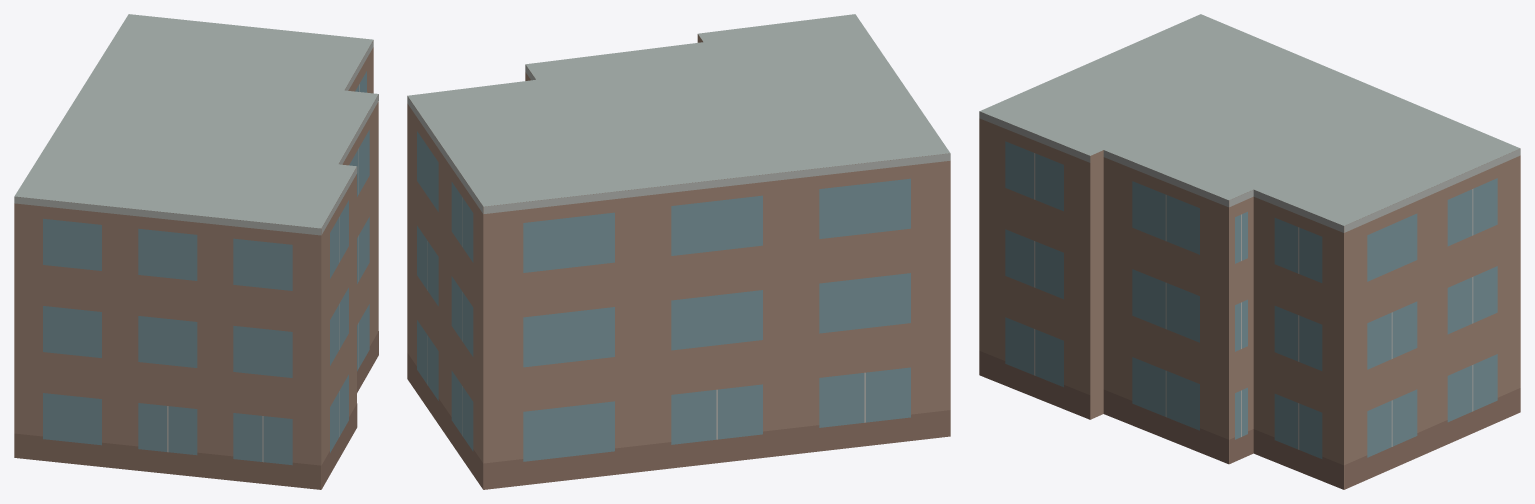
File: survey-upis-33009368.glb
3 views of the same model, side by side, from view 1: azimuth 30°, elevation 25°; view 2: azimuth 150°, elevation 25°; view 3: azimuth 270°, elevation 25° (orthographic). The views are drawn at different scales.
Visible parts, largest first — view 1: survey-upis-33009368.tmp; view 2: survey-upis-33009368.tmp; view 3: survey-upis-33009368.tmp.
Part boxes in pixels (box(x1,y1,x2,y2)): survey-upis-33009368.tmp: box(14, 14, 378, 489); survey-upis-33009368.tmp: box(407, 14, 950, 489); survey-upis-33009368.tmp: box(979, 14, 1520, 489).
Size of the model in its own units: 15.77 by 9.15 by 17.01.
